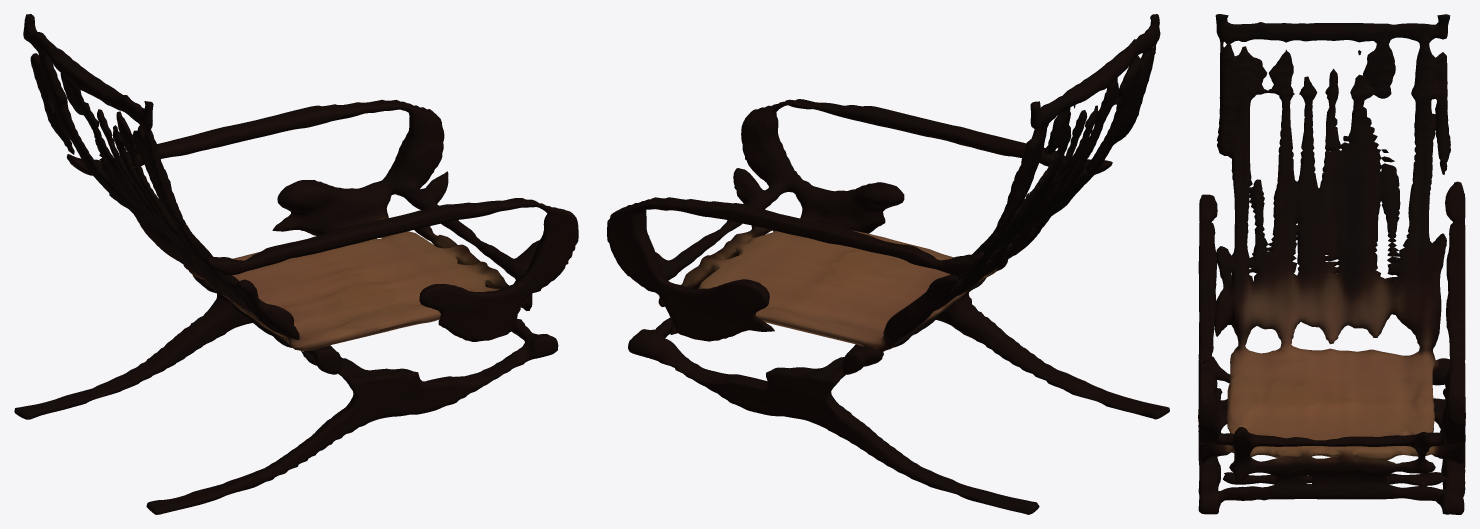
Rendered from a rocking chair, brown frame, earth colored cushio.glb.
3 renders of one model, left to right at view 1: azimuth 30°, elevation 25°; view 2: azimuth 150°, elevation 25°; view 3: azimuth 270°, elevation 25°, orthographic. The views are drawn at different scales.
Parts seen in each view (by area): view 1: a rocking chair, brown frame, earth colored cushio; view 2: a rocking chair, brown frame, earth colored cushio; view 3: a rocking chair, brown frame, earth colored cushio.
Part boxes in pixels (bbox=[...]): a rocking chair, brown frame, earth colored cushio: bbox=[14, 14, 578, 514]; a rocking chair, brown frame, earth colored cushio: bbox=[607, 14, 1169, 514]; a rocking chair, brown frame, earth colored cushio: bbox=[1198, 14, 1465, 514].
Size of the model in its own units: 1.98 by 1.78 by 1.14.
